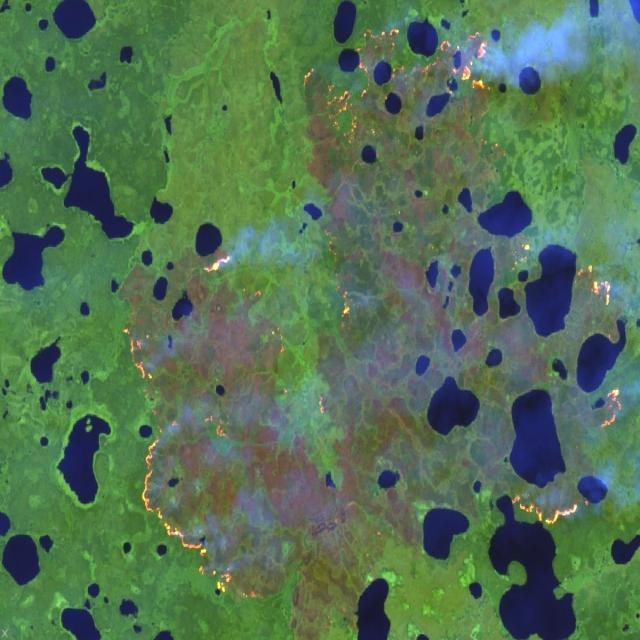fire: (111, 247, 260, 612), (290, 0, 368, 372), (375, 2, 515, 184), (560, 239, 624, 317), (509, 482, 593, 535), (596, 381, 625, 439)
